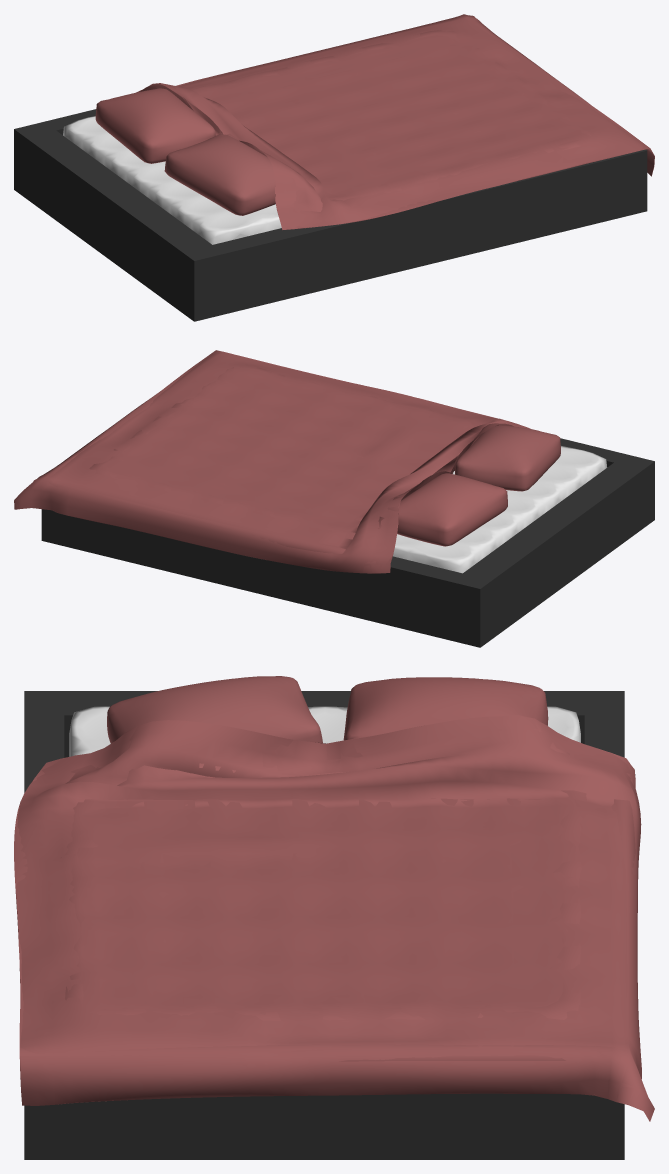
File: Bett3.fbx
3 views of the same model, one above another, from view 1: azimuth 30°, elevation 25°; view 2: azimuth 150°, elevation 25°; view 3: azimuth 270°, elevation 25° (orthographic). The views are drawn at different scales.
Parts seen in each view (by area): view 1: proba:polyToSubd1, proba:pCube1, proba:pCube2, proba:pCube4, proba:pCube3; view 2: proba:polyToSubd1, proba:pCube1, proba:pCube2, proba:pCube3, proba:pCube4; view 3: proba:polyToSubd1, proba:pCube1, proba:pCube4, proba:pCube3, proba:pCube2.
Boxes of the visible parts, <box> form: proba:polyToSubd1: <box>136,14,654,230</box>; proba:pCube1: <box>14,109,647,321</box>; proba:pCube2: <box>63,116,281,244</box>; proba:pCube4: <box>164,134,275,215</box>; proba:pCube3: <box>95,88,215,163</box>; proba:polyToSubd1: <box>14,350,530,573</box>; proba:pCube1: <box>41,438,654,647</box>; proba:pCube2: <box>393,446,607,573</box>; proba:pCube3: <box>397,473,507,546</box>; proba:pCube4: <box>455,425,560,491</box>; proba:polyToSubd1: <box>14,715,654,1121</box>; proba:pCube1: <box>24,691,624,1159</box>; proba:pCube4: <box>107,676,322,743</box>; proba:pCube3: <box>343,677,548,740</box>; proba:pCube2: <box>69,706,580,756</box>.
Size of the model in its own units: 13.74 by 2.95 by 9.63.
